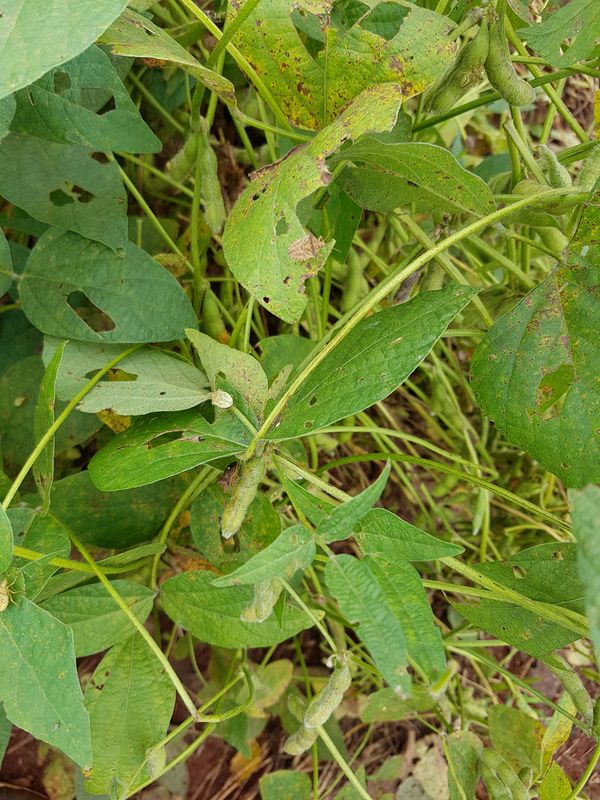Euschistus_heros_adulto: (210, 459, 248, 498)
Euschistus_heros_ninfa: (286, 234, 327, 263), (1, 570, 25, 619), (201, 384, 238, 414)
